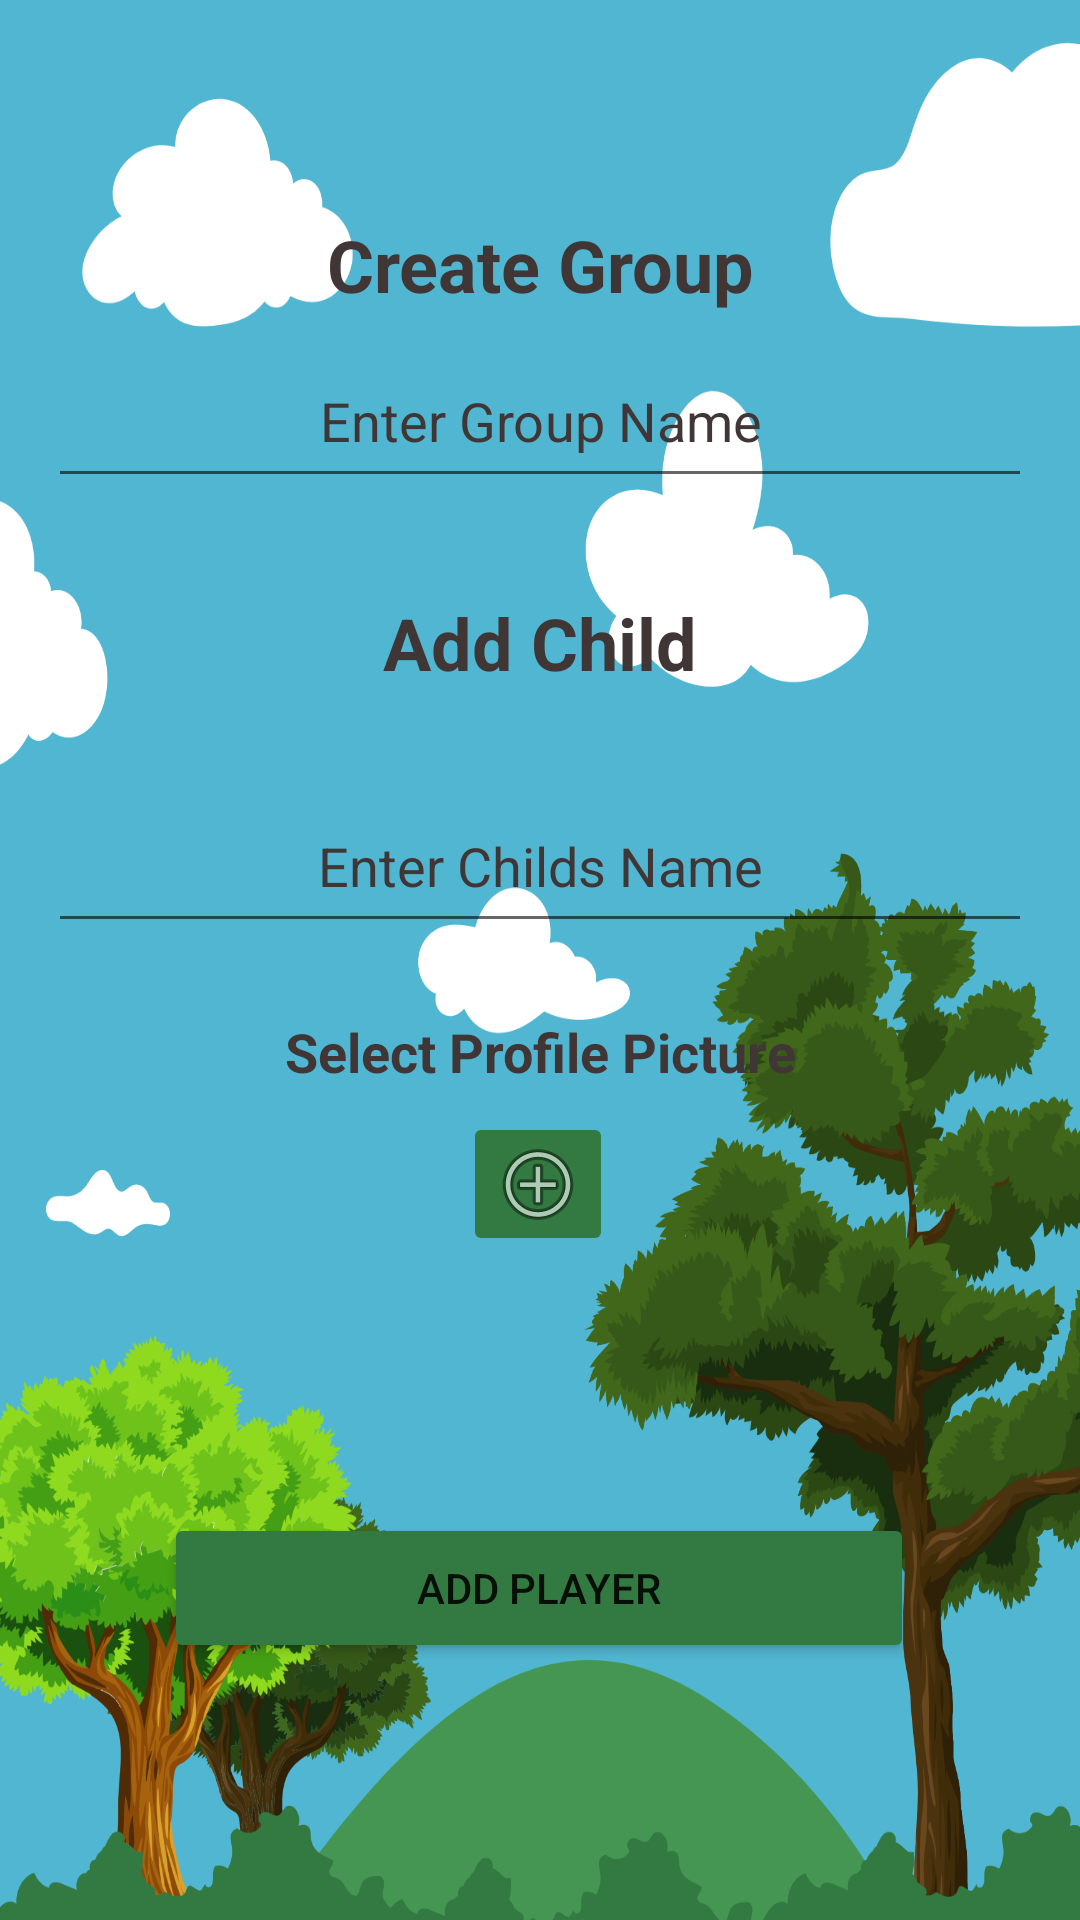

Screen size 1080px x 1920px. Icon name, then its box in pixels as (x1, y1, x2, y2):
add: (475, 1130, 601, 1238)
